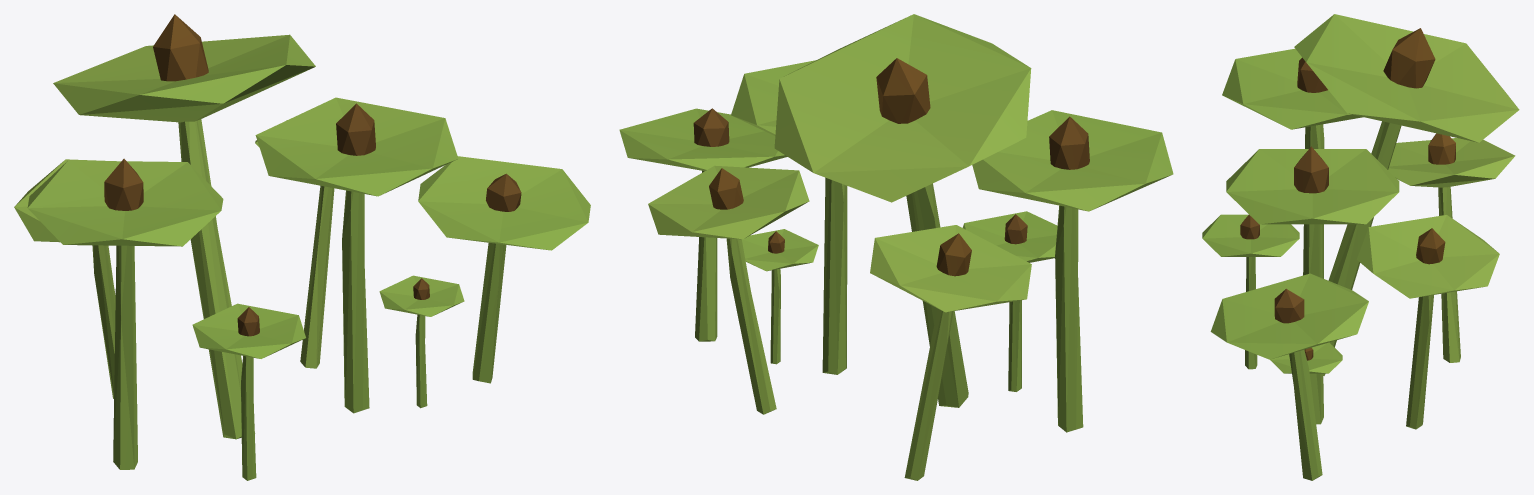
Rendered from Flower_02.fbx.
The picture shows the model from 3 angles, left to right: view 1: azimuth 30°, elevation 25°; view 2: azimuth 150°, elevation 25°; view 3: azimuth 270°, elevation 25°; orthographic projection. The views are drawn at different scales.
Parts seen in each view (by area): view 1: Flower_02; view 2: Flower_02; view 3: Flower_02.
Boxes of the visible parts, x1,y1,x2,y2 form: Flower_02: [14, 14, 590, 480]; Flower_02: [619, 14, 1173, 480]; Flower_02: [1202, 14, 1519, 480].
Size of the model in its own units: 0.7337 by 0.5195 by 0.4283.
